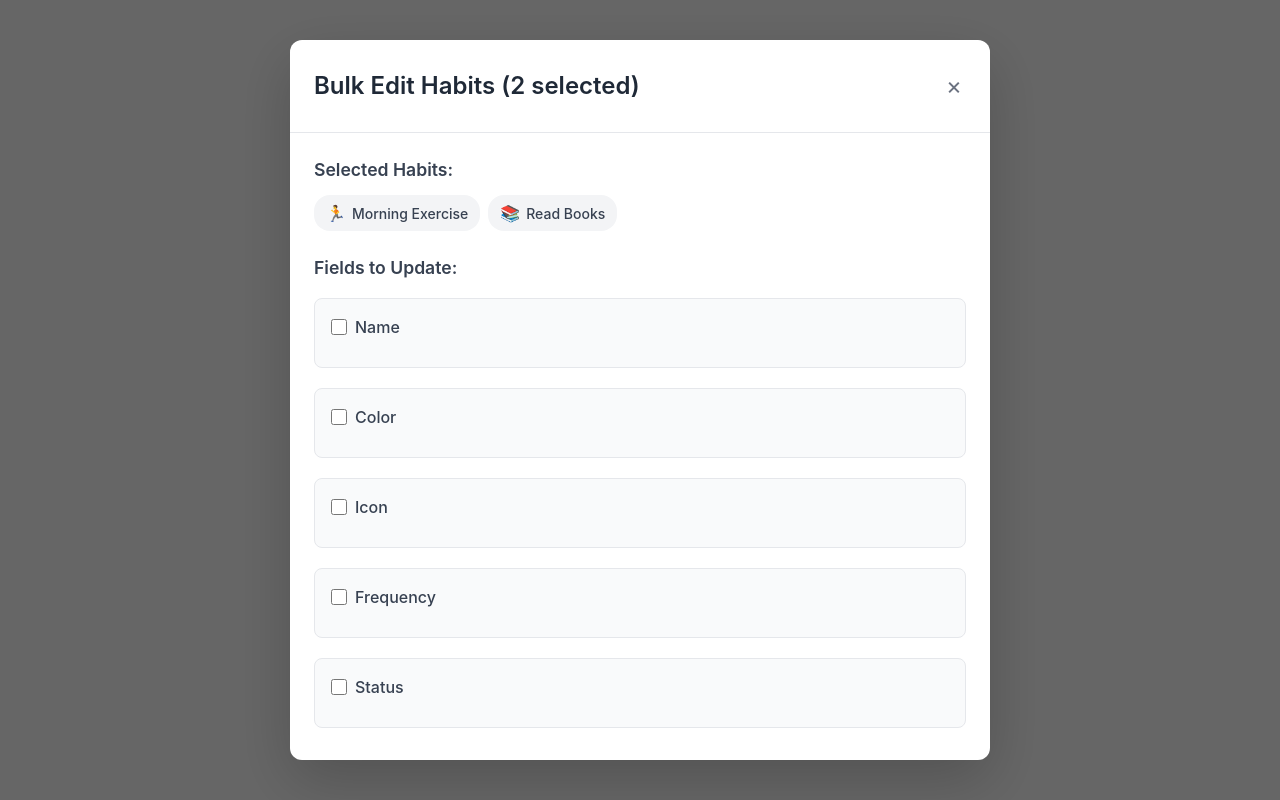
Scenario: BulkEditModal › allows selecting fields to update
# Select name field
Step 1. Click the checkbox labelled "Name" → (339, 327), box [331, 319, 347, 335]
(page scrolled)
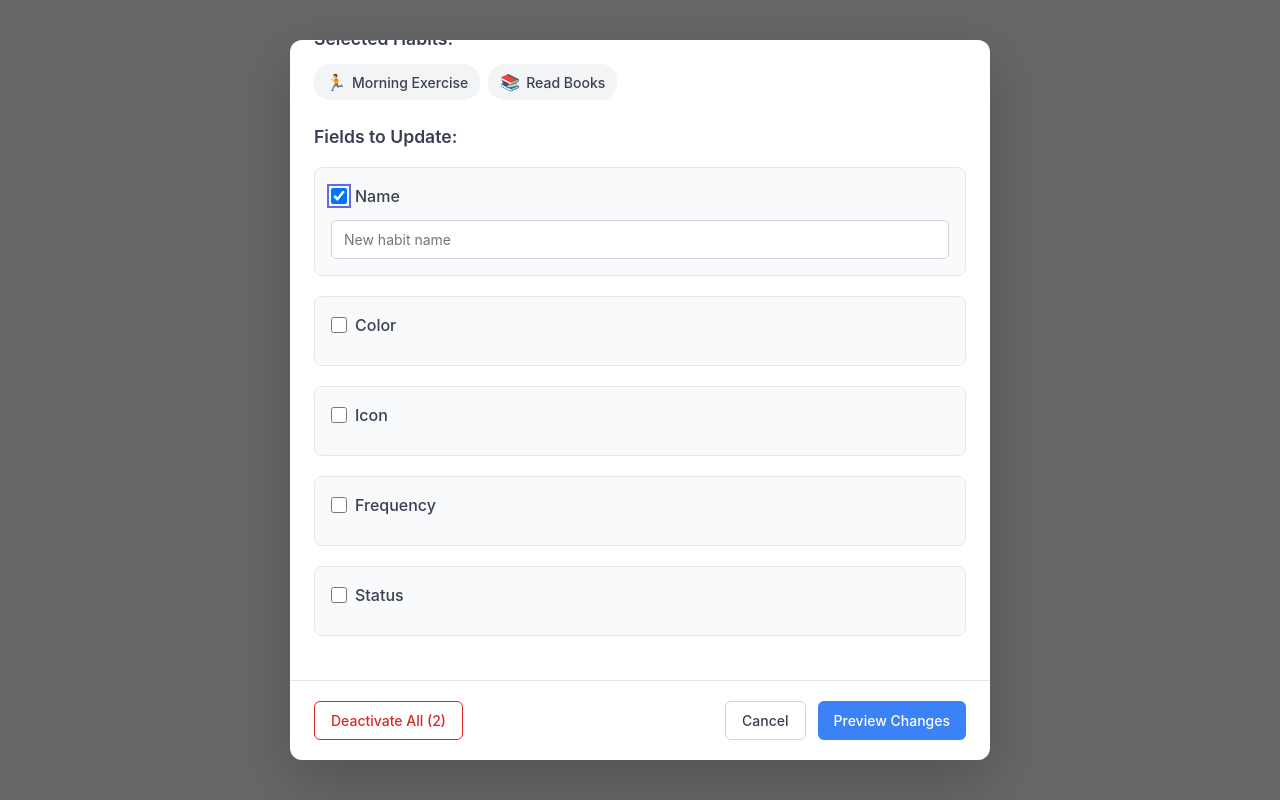
Check: the field with placeholder "New habit name" is shown, box [331, 220, 949, 259]
Check: the button "Preview Changes" is enabled, box [818, 701, 966, 740]
